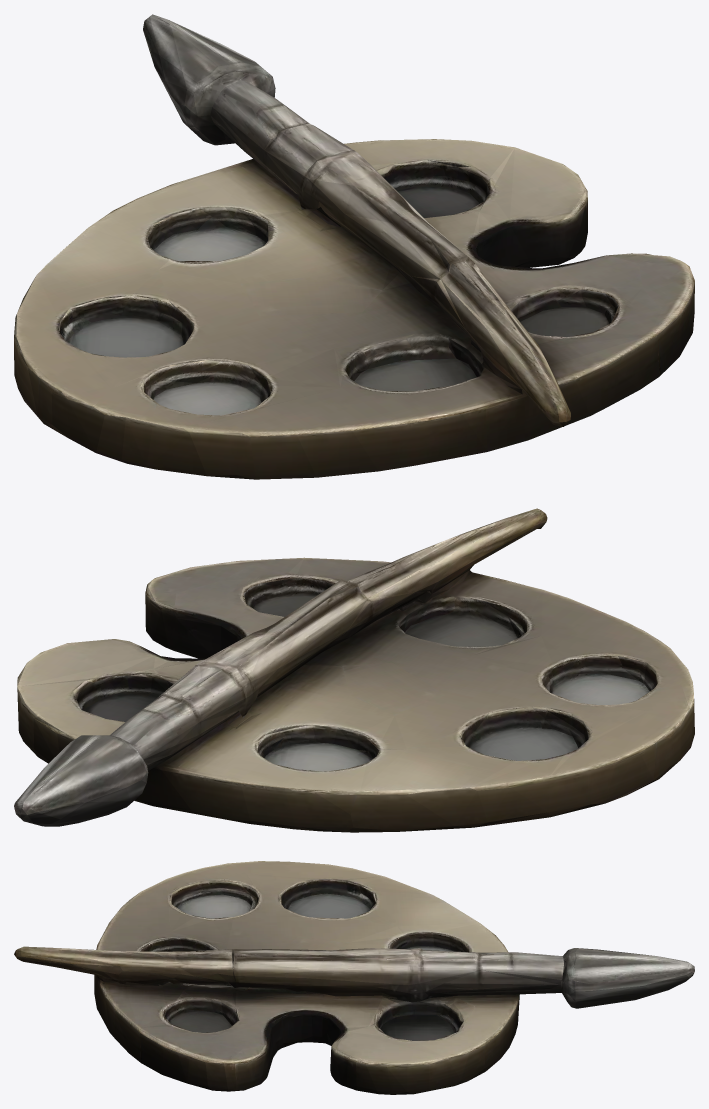
File: maple-leaf.glb
3 renders of one model, top to bottom at view 1: azimuth 30°, elevation 25°; view 2: azimuth 150°, elevation 25°; view 3: azimuth 270°, elevation 25°, orthographic. The views are drawn at different scales.
Parts seen in each view (by area): view 1: world; view 2: world; view 3: world.
Part boxes in pixels (x1,y1,x2,y2): world: (14,14,694,479); world: (14,508,694,832); world: (14,861,694,1094).
Bounding box in the file's own units: 0.7109 × 0.1408 × 0.9995.
Materials: 1 (1 with a texture image).
